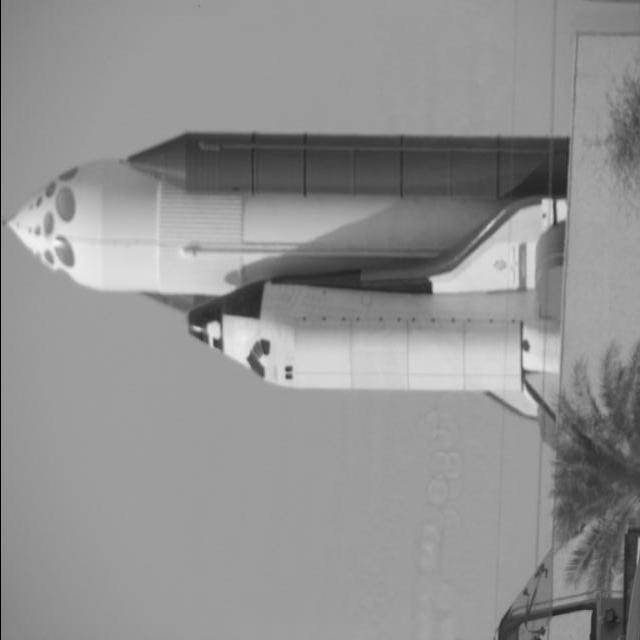missile: (166, 279, 530, 396), (106, 127, 553, 212)
